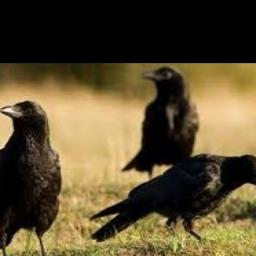Crow: (89, 153, 256, 243), (0, 100, 62, 256), (121, 66, 198, 182)
